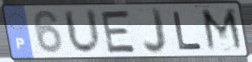6: (31, 9, 66, 57)
E: (99, 9, 139, 55)
J: (141, 7, 169, 56)
L: (171, 10, 205, 52)
M: (199, 7, 247, 53)
U: (61, 8, 104, 57)
